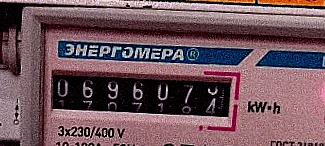0: (154, 79, 170, 102), (54, 76, 69, 98)
4: (203, 95, 217, 117)
6: (79, 77, 94, 99), (129, 80, 144, 100)
7: (179, 83, 195, 104)
9: (104, 78, 118, 100)
screen: (36, 58, 245, 129)
